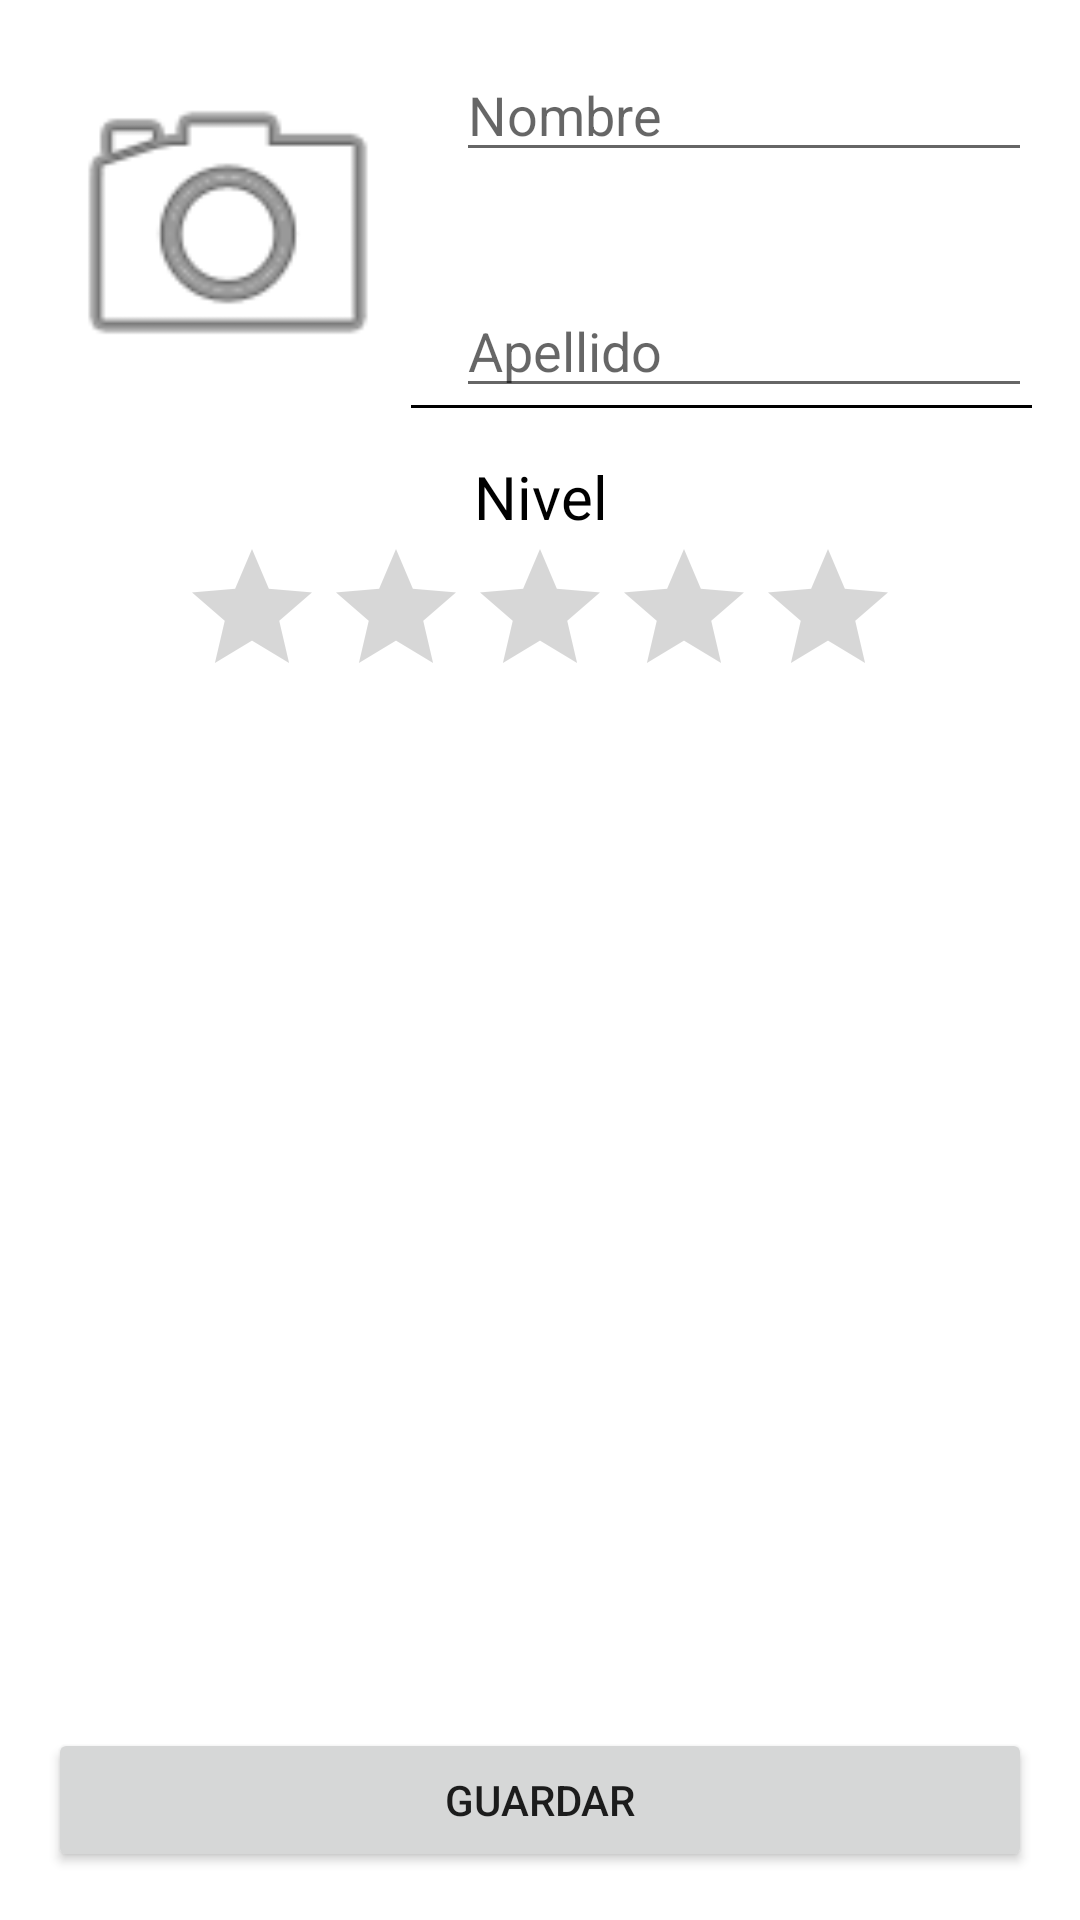

Screen size 1080×1920. Icon name, then its center in pixels as (x,y):
camera: (228,222)
